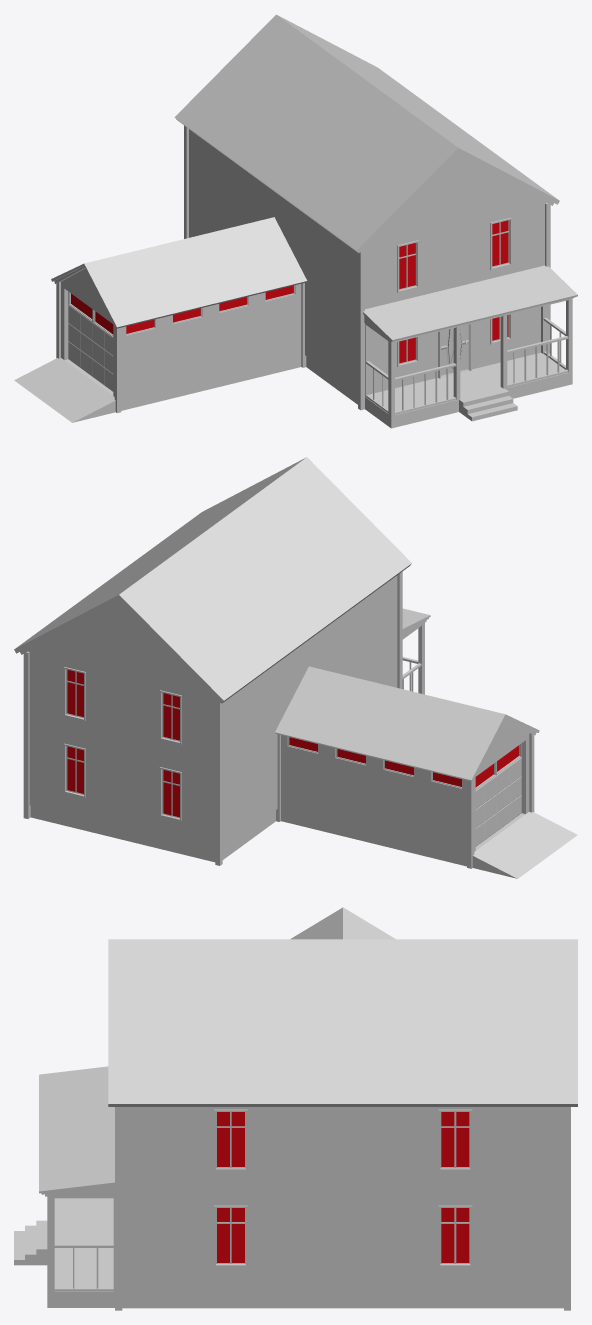
Rendered from SM_ordinary_houses_02.glb.
The picture shows the model from 3 angles, top to bottom: view 1: azimuth 30°, elevation 25°; view 2: azimuth 150°, elevation 25°; view 3: azimuth 270°, elevation 25°; orthographic projection. The views are drawn at different scales.
Parts seen in each view (by area): view 1: ordinary_houses_02; view 2: ordinary_houses_02; view 3: ordinary_houses_02.
Part boxes in pixels (x1,y1,x2,y2): ordinary_houses_02: (14, 14, 577, 428); ordinary_houses_02: (14, 457, 577, 878); ordinary_houses_02: (14, 907, 577, 1310).
Size of the model in its own units: 18 by 9.75 by 16.
